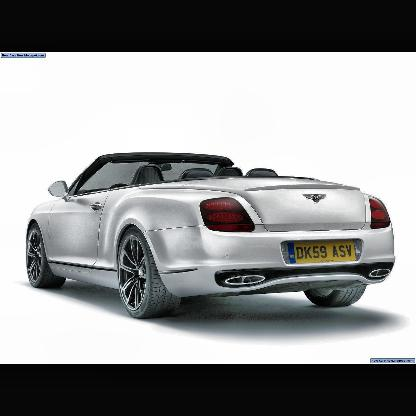Bentley Continental Supersports Conv- Convertible 2012: (26, 152, 399, 322)
